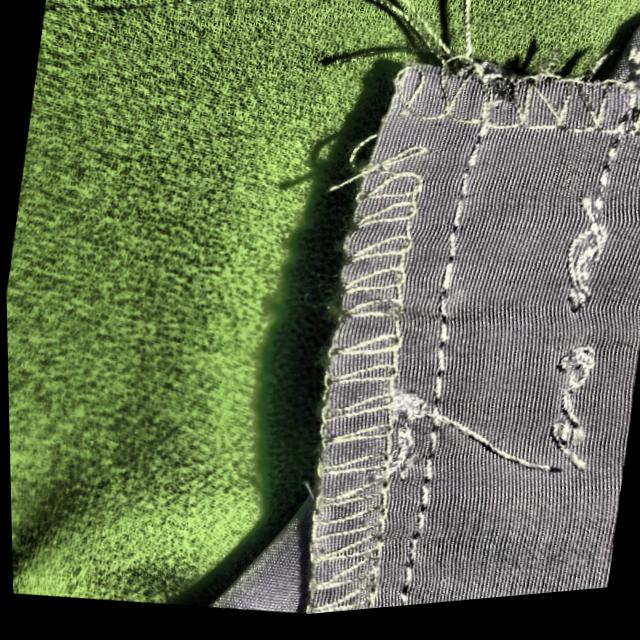Stitch: (315, 0, 501, 275), (497, 172, 640, 447)
